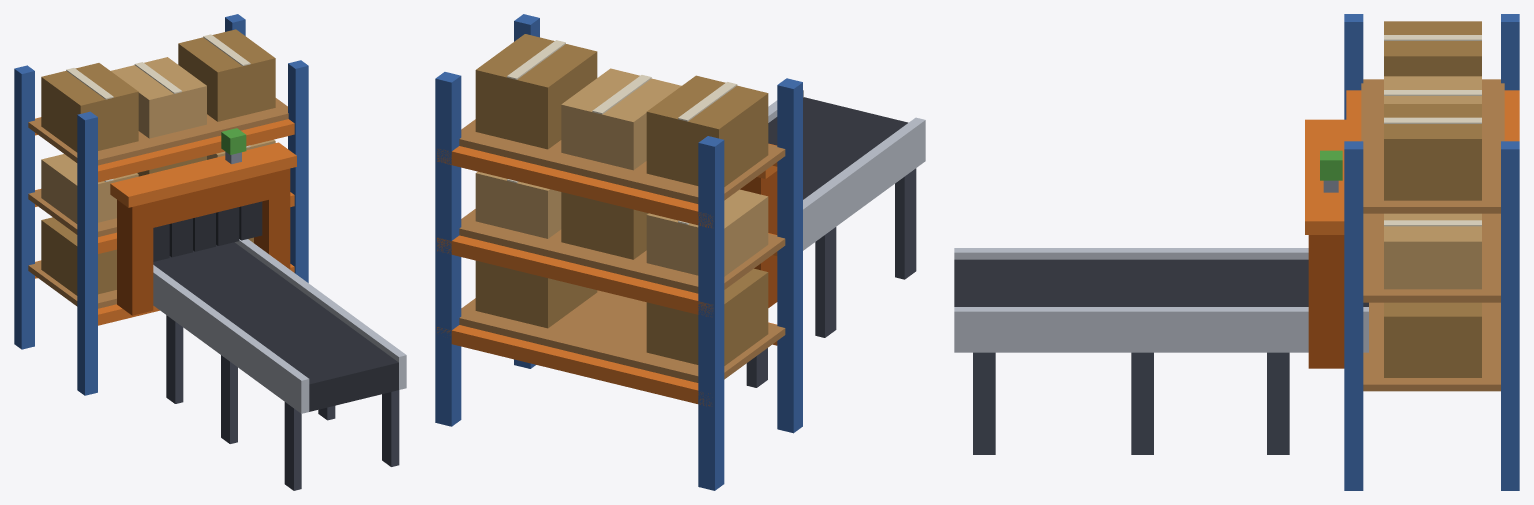
Rendered from rack-exit.glb.
3 views of the same model, side by side, from view 1: azimuth 30°, elevation 25°; view 2: azimuth 150°, elevation 25°; view 3: azimuth 270°, elevation 25° (orthographic). The views are drawn at different scales.
Parts seen in each view (by area): view 1: rack-exit; view 2: rack-exit; view 3: rack-exit.
Part boxes in pixels (x1,y1,x2,y2): rack-exit: (14,14,406,490); rack-exit: (435,14,925,490); rack-exit: (954,14,1519,490).
Bounding box in the file's own units: 0.85 × 1 × 1.5.
1 material, 1 textured.
